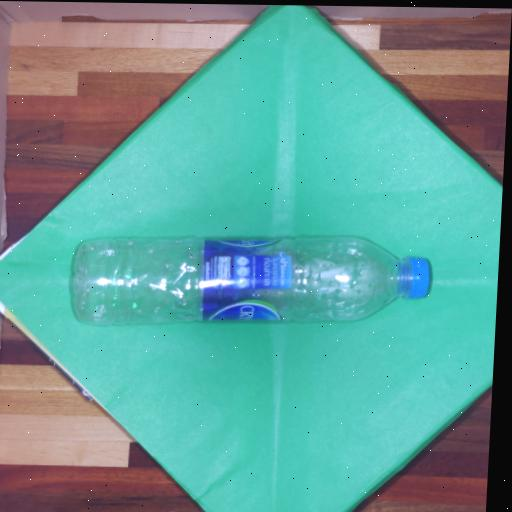bottle: (73, 237, 429, 323)
